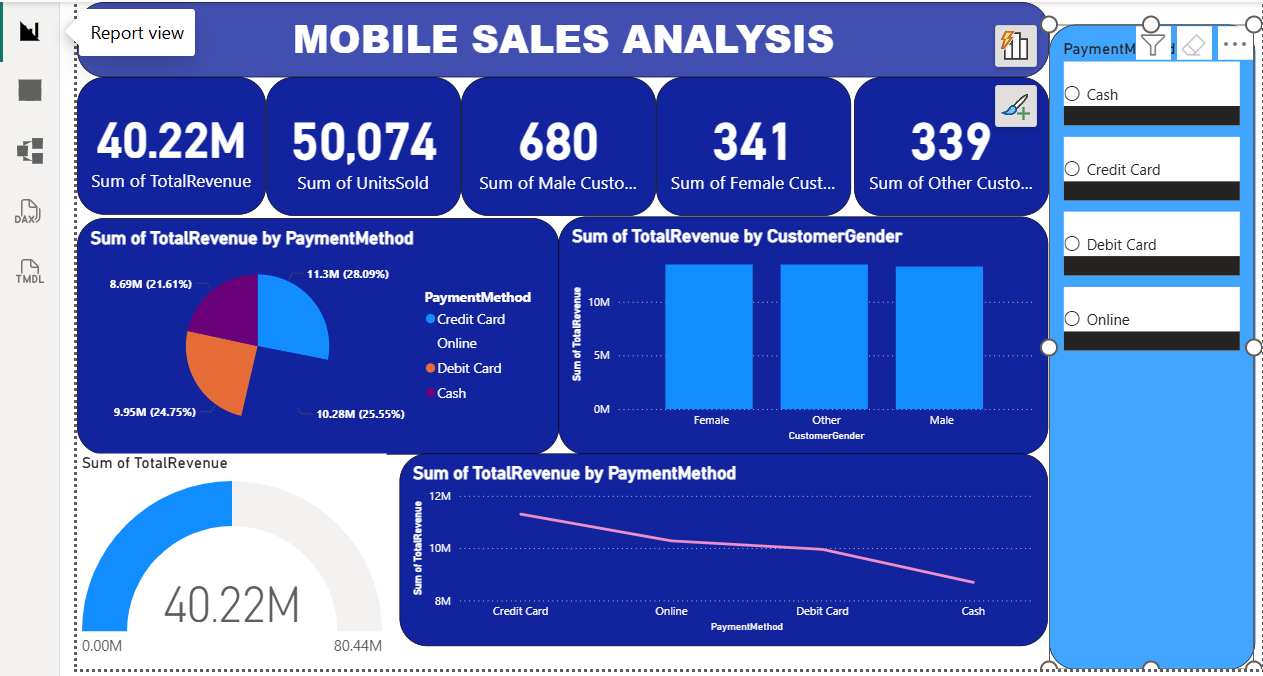

Layout of this report page (visuals, bound fields, positions):
{"tool":"powerbi","page":{"name":"Page 2","canvas":[1280,720],"ordinal":0},"visuals":[{"type":"textbox","title":"MOBILE SALES ANALYSIS","box":[0,0,1049.1,81],"z":0},{"type":"card","fields":{"Values":["Sum(mobile_sales.TotalRevenue)"]},"box":[0,81,204,149],"z":1000},{"type":"card","fields":{"Values":["Sum(mobile_sales.UnitsSold)"]},"box":[204.6,81,210.6,149.9],"z":2000},{"type":"card","fields":{"Values":["Sum(mobile_sales.Male Customers)"]},"box":[415.2,81,210.6,149.9],"z":3000},{"type":"card","fields":{"Values":["Sum(mobile_sales.Other Customers)"]},"box":[838.5,81,210.6,149.9],"z":4000},{"type":"card","fields":{"Values":["Sum(mobile_sales.Female Customers)"]},"box":[625.8,81,210.6,149.9],"z":5000},{"type":"pieChart","fields":{"Y":["Sum(mobile_sales.TotalRevenue)"],"Category":["mobile_sales.PaymentMethod"]},"box":[0,232.9,520.5,255.2],"z":6000},{"type":"columnChart","fields":{"Y":["Sum(mobile_sales.TotalRevenue)"],"Category":["mobile_sales.CustomerGender"]},"box":[520.5,230.9,528.6,257.2],"z":7000},{"type":"gauge","fields":{"Y":["Sum(mobile_sales.TotalRevenue)"]},"box":[0,488.1,334.2,232.9],"z":8000},{"type":"lineChart","fields":{"Category":["mobile_sales.PaymentMethod"],"Y":["Sum(mobile_sales.TotalRevenue)"]},"box":[348,488,700,208],"z":9000},{"type":"listSlicer","fields":{"Values":["mobile_sales.PaymentMethod"]},"box":[1049.1,24.3,222.8,696.7],"z":10000}]}

Visuals, with their boxes on the page's 1280x720 design canvas (x1, y1, x2, y2). These are canvas units, not pixel positions in the 1263x676 screenshot, which may show the page scaled, cropped or inside an application window:
"MOBILE SALES ANALYSIS" textbox: bbox(0, 0, 1049, 81)
card - Sum(mobile_sales.TotalRevenue): bbox(0, 81, 204, 230)
card - Sum(mobile_sales.UnitsSold): bbox(205, 81, 415, 231)
card - Sum(mobile_sales.Male Customers): bbox(415, 81, 626, 231)
card - Sum(mobile_sales.Other Customers): bbox(838, 81, 1049, 231)
card - Sum(mobile_sales.Female Customers): bbox(626, 81, 836, 231)
pieChart - Sum(mobile_sales.TotalRevenue) x mobile_sales.PaymentMethod: bbox(0, 233, 520, 488)
columnChart - Sum(mobile_sales.TotalRevenue) x mobile_sales.CustomerGender: bbox(520, 231, 1049, 488)
gauge - Sum(mobile_sales.TotalRevenue): bbox(0, 488, 334, 721)
lineChart - mobile_sales.PaymentMethod x Sum(mobile_sales.TotalRevenue): bbox(348, 488, 1048, 696)
listSlicer - mobile_sales.PaymentMethod: bbox(1049, 24, 1272, 721)
